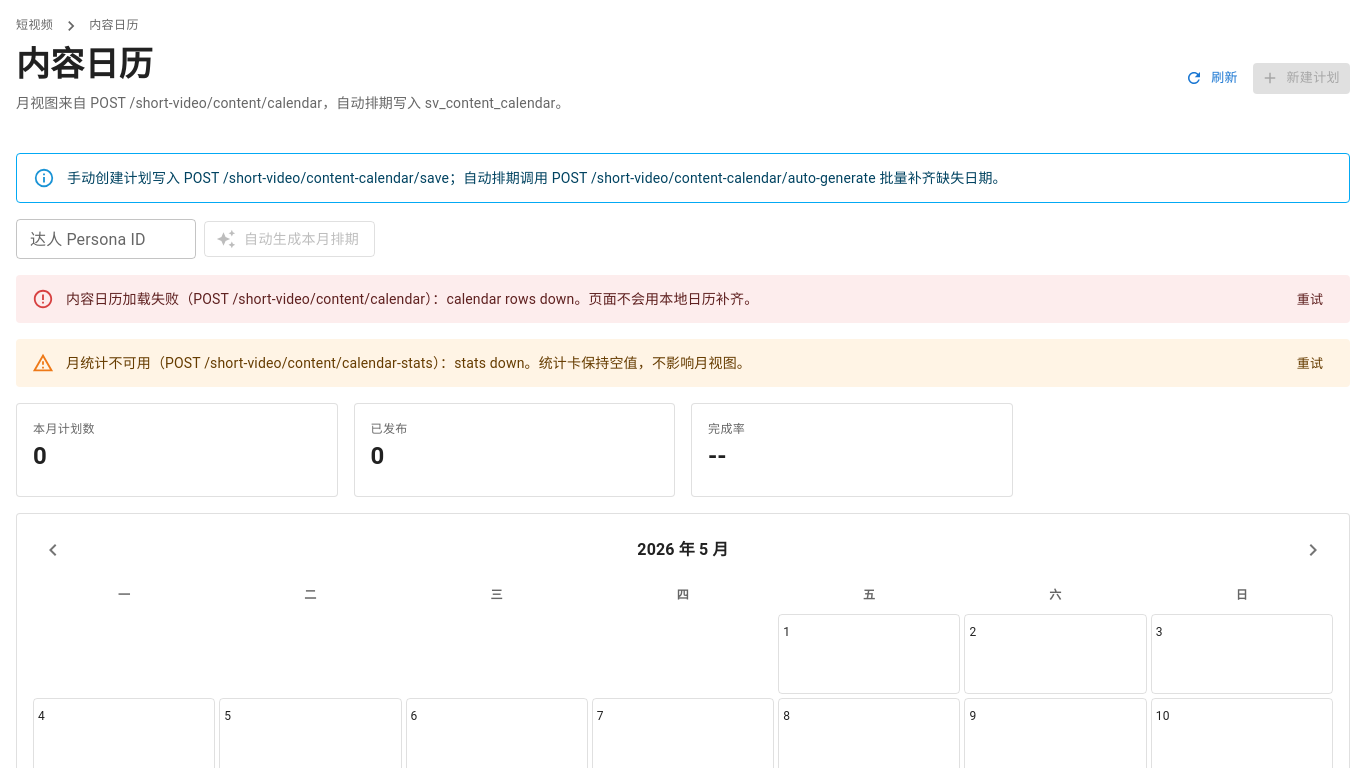
Test: ContentCalendarPage › keeps explicit endpoint failures without local calendar fallback
Expected: the text "内容日历加载失败（POST /short-video/content/calendar）：calendar rows down" is shown, 66,291 -> 758,307
Expected: the text "月统计不可用（POST /short-video/content/calendar-stats）：stats down" is shown, 66,355 -> 751,371
Type "12" into the field labelled "达人 Persona ID" at point(106, 239), box 16,219 -> 196,259
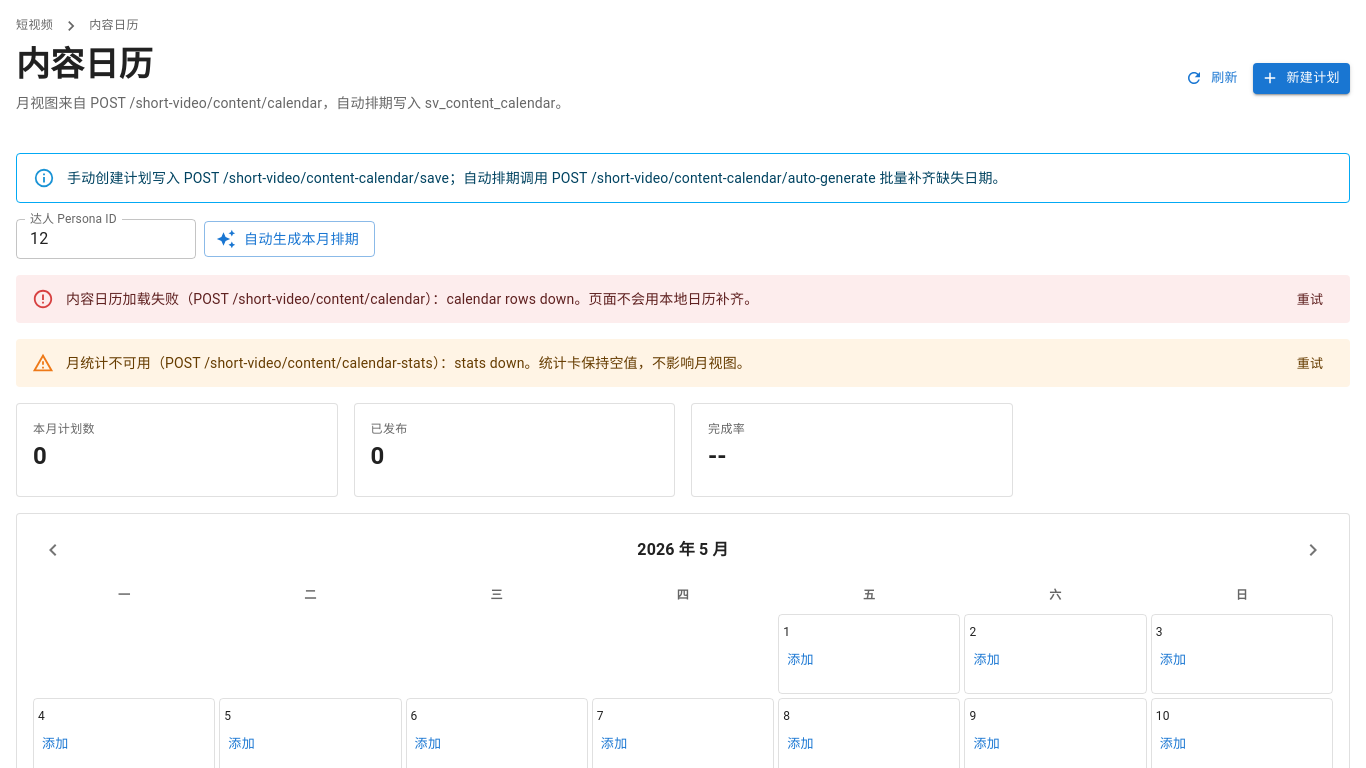
Click the button "自动生成本月排期" at point(290, 239), box 204,221 -> 375,257
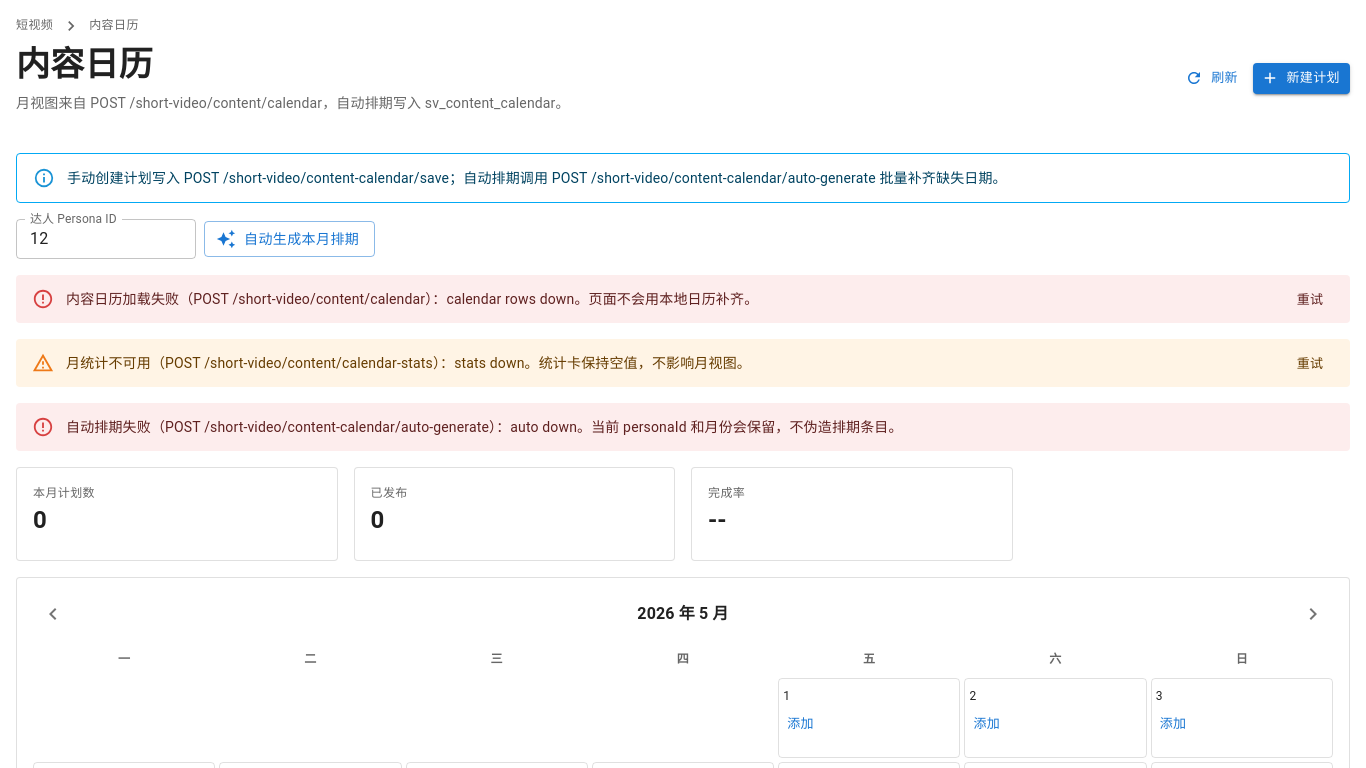
Expected: the text "自动排期失败（POST /short-video/content-calendar/auto-generate）：auto down" is shown, 66,419 -> 903,435
